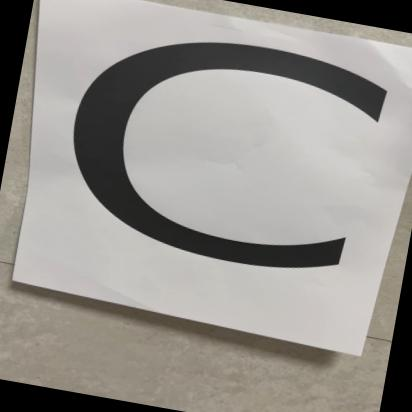seat: (16, 0, 390, 335)
